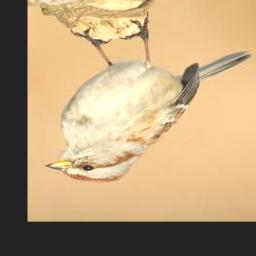Sparrow: (42, 15, 254, 185)
